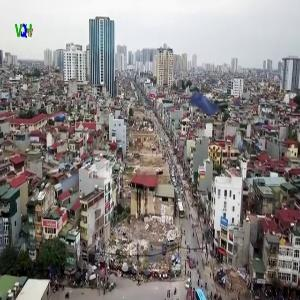drone: (164, 51, 258, 145)
